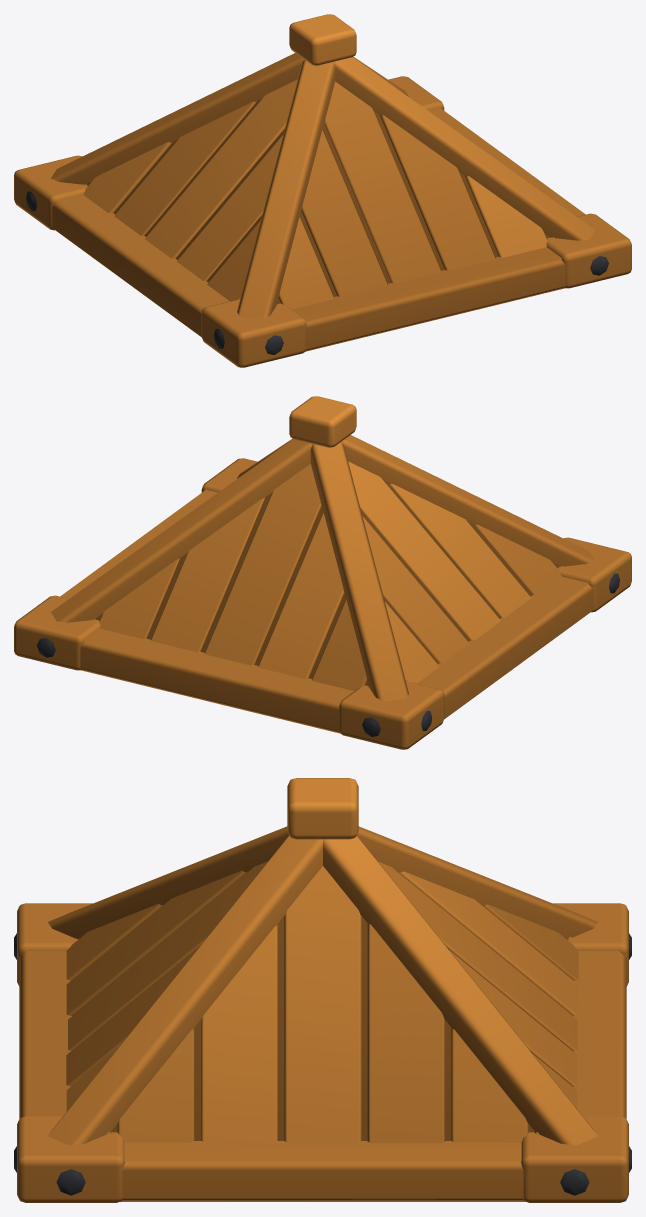
File: pyramid_roof_wood.glb
The picture shows the model from 3 angles, top to bottom: view 1: azimuth 30°, elevation 25°; view 2: azimuth 150°, elevation 25°; view 3: azimuth 270°, elevation 25°; orthographic projection. The views are drawn at different scales.
Parts seen in each view (by area): view 1: pyramid_roof_wood; view 2: pyramid_roof_wood; view 3: pyramid_roof_wood.
Part boxes in pixels (<box>): pyramid_roof_wood: <box>14,14,631,367</box>; pyramid_roof_wood: <box>14,396,631,749</box>; pyramid_roof_wood: <box>14,778,631,1202</box>.
Size of the model in its own units: 4 by 2.05 by 4.
